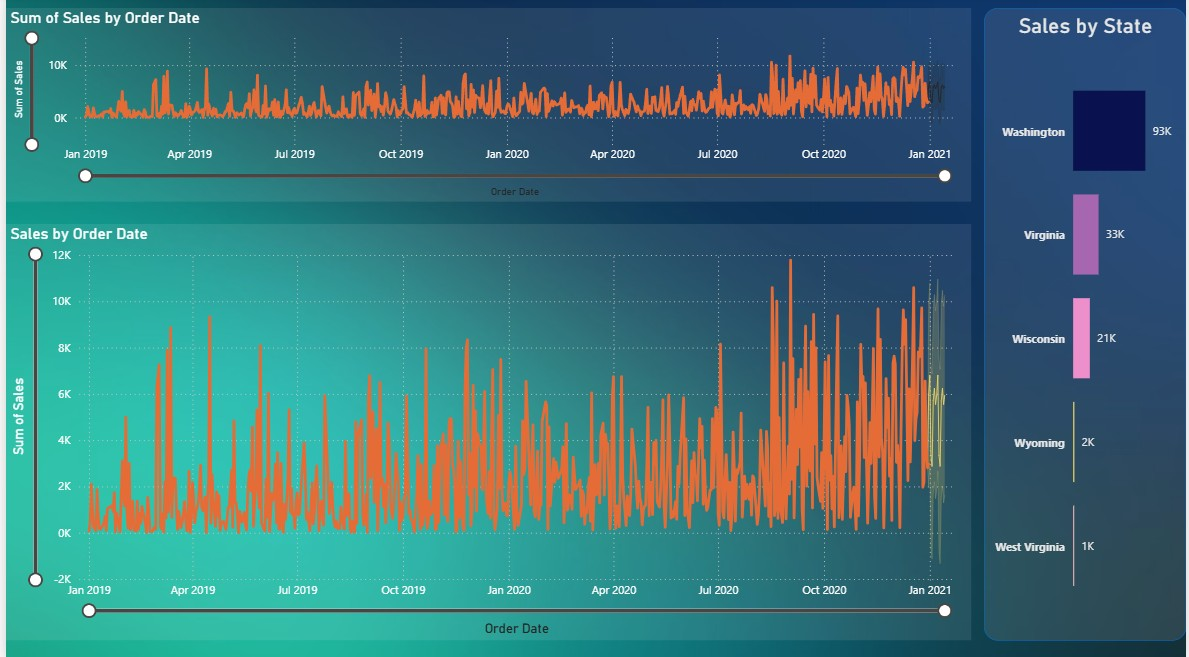

This screenshot's page, from the dashboard's own definition file:
{"tool":"powerbi","page":{"name":"SalesForcast","canvas":[1280,720],"ordinal":1},"visuals":[{"type":"lineChart","fields":{"Y":["Sum(SuperStore_Sales_Dataset (2).Sales)"],"Category":["SuperStore_Sales_Dataset (2).Order Date"]},"box":[0,13.2,1046.9,209.8],"z":0},{"type":"lineChart","title":"Sales by Order Date","fields":{"Y":["Sum(SuperStore_Sales_Dataset (2).Sales)"],"Category":["SuperStore_Sales_Dataset (2).Order Date"]},"box":[0,247.6,1046.9,451.7],"z":1},{"type":"clusteredBarChart","title":"Sales by State","fields":{"Category":["SuperStore_Sales_Dataset (2).State"],"Y":["Sum(SuperStore_Sales_Dataset (2).Sales)"]},"box":[1060.2,13.2,219.2,686],"z":2}]}

Visuals, with their boxes in screenshot pixels (x1, y1, x2, y2), scaled from the page's 1280x720 canvas onto the 1189x657 screenshot:
lineChart - Sum(SuperStore_Sales_Dataset (2).Sales) x SuperStore_Sales_Dataset (2).Order Date: bbox(0, 12, 972, 203)
"Sales by Order Date" lineChart: bbox(0, 226, 972, 638)
"Sales by State" clusteredBarChart: bbox(985, 12, 1188, 638)
